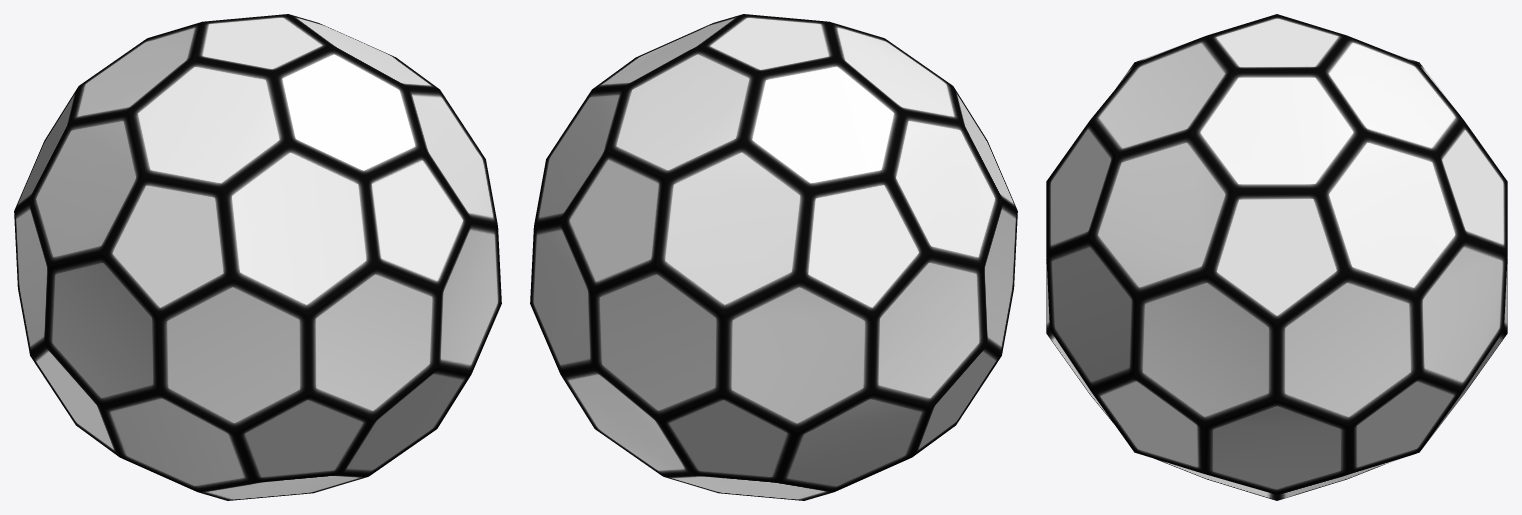
The model's file is HexaSphere_01.FBX.
The picture shows the model from 3 angles, left to right: view 1: azimuth 30°, elevation 25°; view 2: azimuth 150°, elevation 25°; view 3: azimuth 270°, elevation 25°; orthographic projection.
Parts seen in each view (by area): view 1: HexaSphere_01; view 2: HexaSphere_01; view 3: HexaSphere_01.
Part boxes in pixels (x1,y1,x2,y2): HexaSphere_01: (14, 14, 501, 500); HexaSphere_01: (530, 14, 1017, 500); HexaSphere_01: (1046, 14, 1507, 500).
Size of the model in its own units: 183 by 177 by 174.
1 material, 1 textured.
